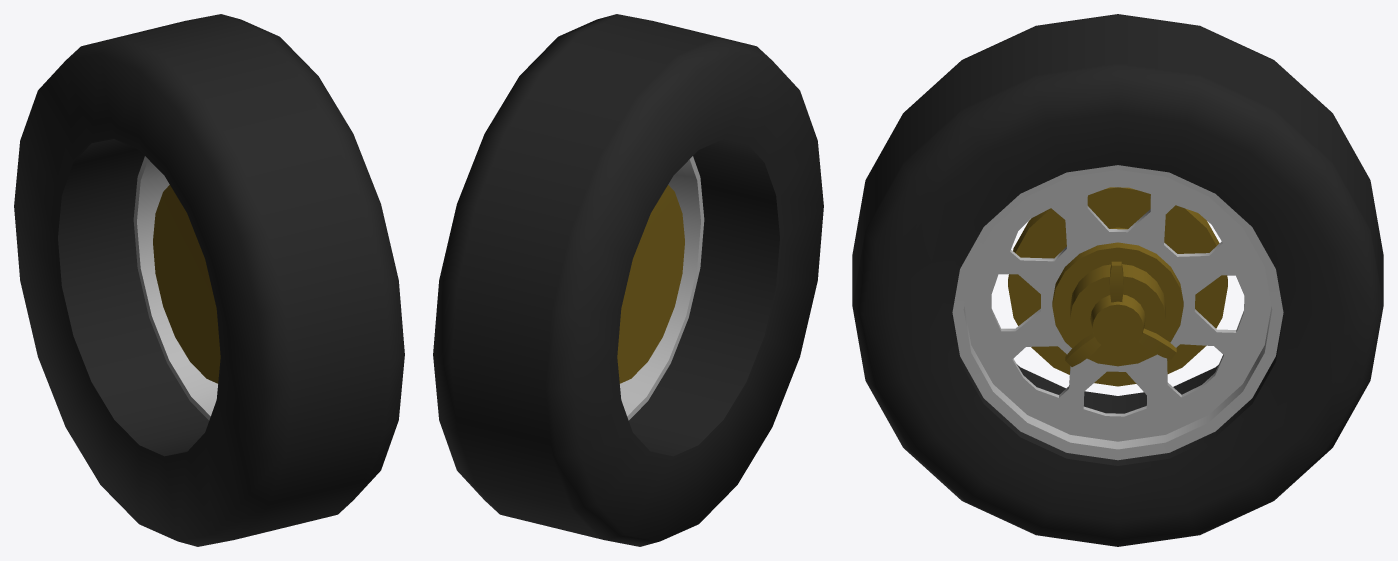
File: wheel_bl.fbx
The picture shows the model from 3 angles, left to right: view 1: azimuth 30°, elevation 25°; view 2: azimuth 150°, elevation 25°; view 3: azimuth 270°, elevation 25°; orthographic projection. The views are drawn at different scales.
Parts seen in each view (by area): view 1: wheel_centered.001; view 2: wheel_centered.001; view 3: wheel_centered.001.
Part boxes in pixels (x1=…): wheel_centered.001: x1=14, y1=14, x2=404, y2=546; wheel_centered.001: x1=433, y1=14, x2=823, y2=546; wheel_centered.001: x1=852, y1=14, x2=1383, y2=546.
Bounding box in the file's own units: 0.3223 × 0.8792 × 0.8792.
